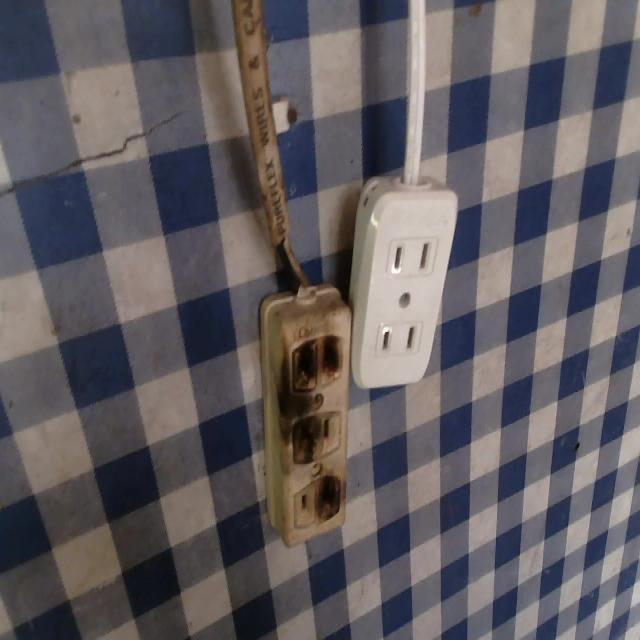-: (285, 331, 350, 397), (285, 404, 322, 469), (315, 467, 347, 532)
